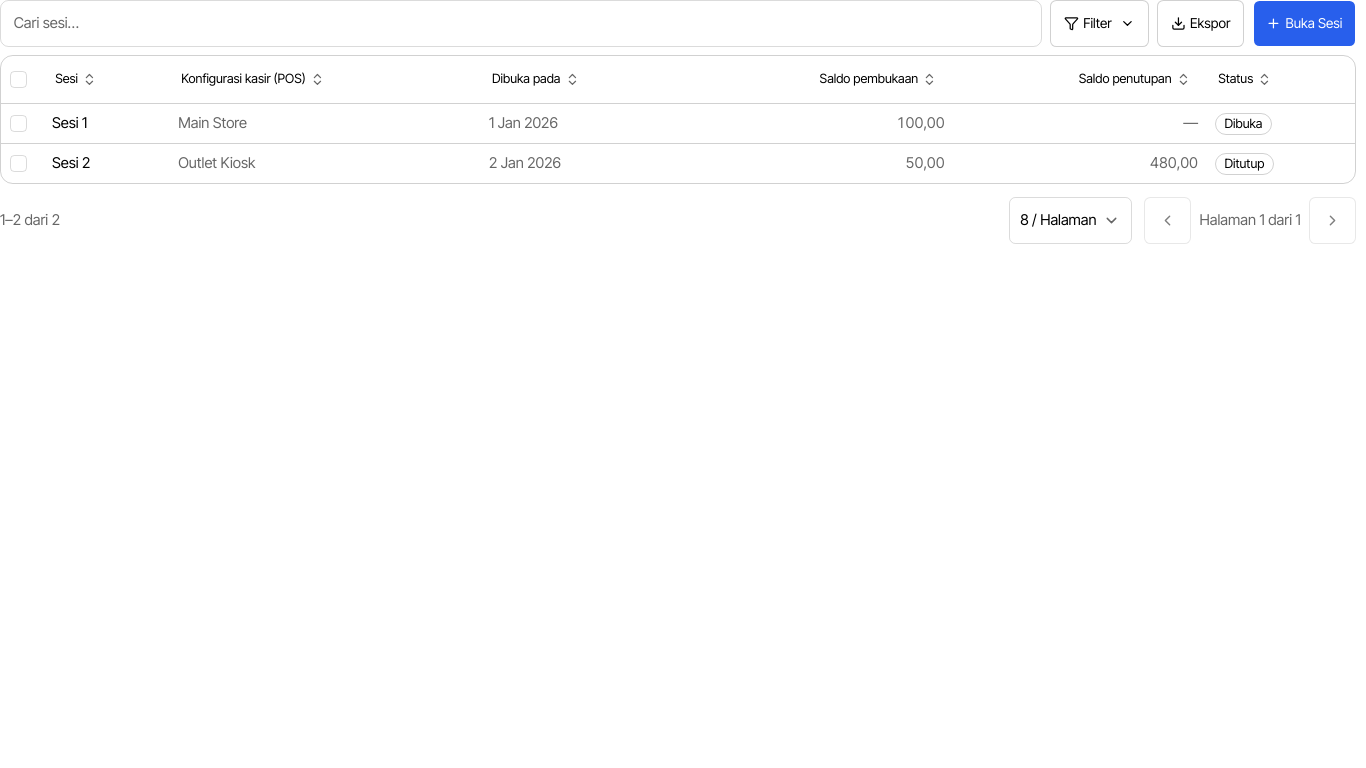
Test: PosSessionsSection › opens the open-session dialog from the action button
What coordinates should you click on to do the following:
click the button "Buka Sesi"
I would click on:
 (1304, 23)
Its box is 1253,0 -> 1356,47.
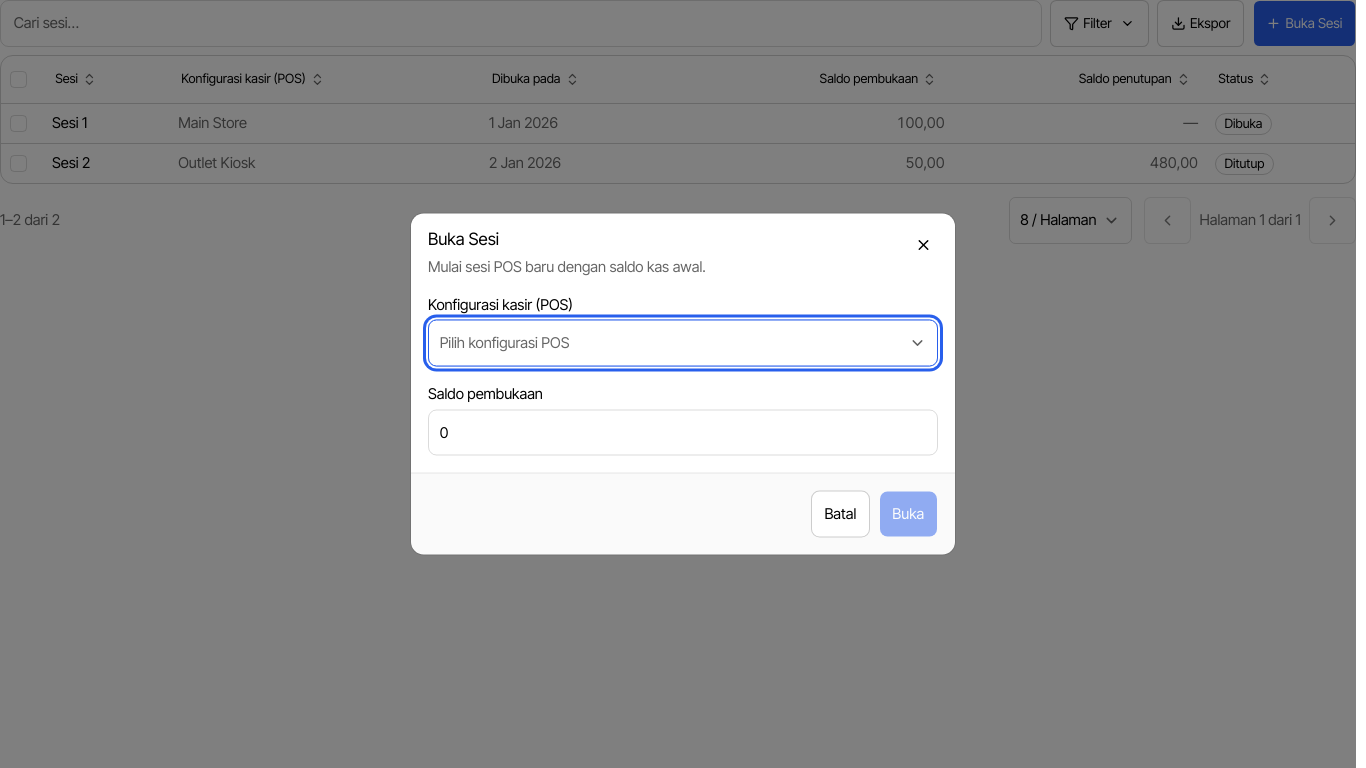
Expected: the heading "Buka Sesi" is shown, 428,228 -> 499,248
